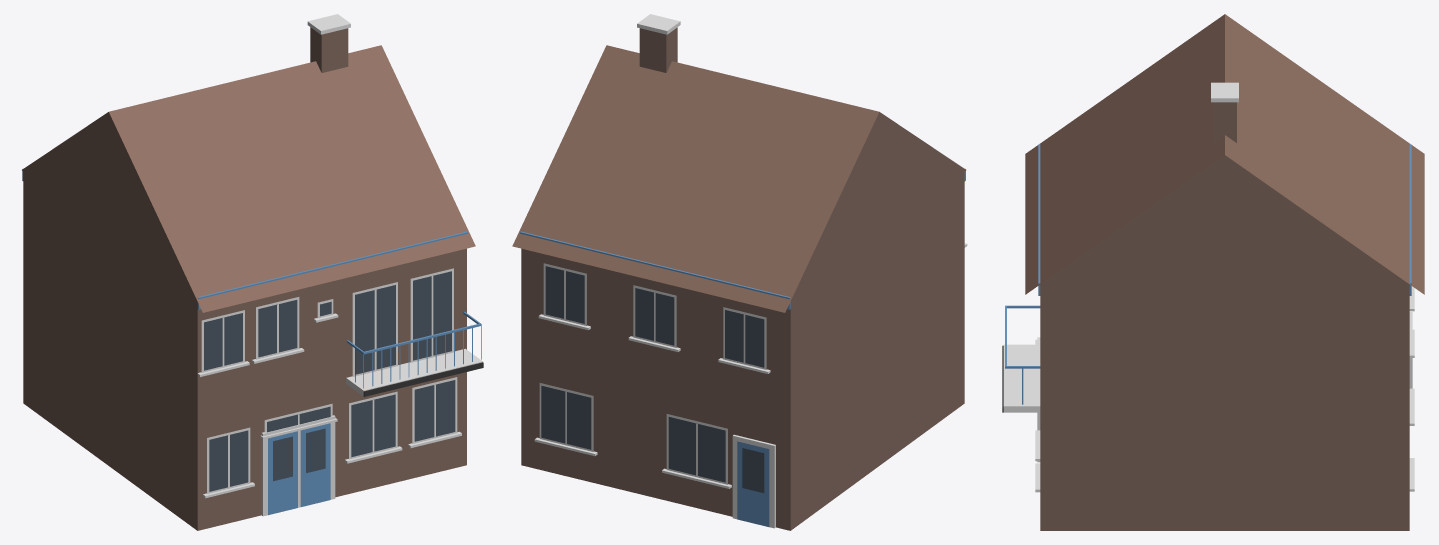
File: oo-ta-side__blue__2__gable__long__solid__mirror.glb
The picture shows the model from 3 angles, left to right: view 1: azimuth 30°, elevation 25°; view 2: azimuth 150°, elevation 25°; view 3: azimuth 270°, elevation 25°; orthographic projection. The views are drawn at different scales.
Visible parts, largest first — view 1: oo-ta-side__blue__2__gable__long__solid__mirror; view 2: oo-ta-side__blue__2__gable__long__solid__mirror; view 3: oo-ta-side__blue__2__gable__long__solid__mirror.
Boxes of the visible parts, x1,y1,x2,y2 form: oo-ta-side__blue__2__gable__long__solid__mirror: (22,14,483,530); oo-ta-side__blue__2__gable__long__solid__mirror: (512,14,967,530); oo-ta-side__blue__2__gable__long__solid__mirror: (1002,14,1424,530).
Bounding box in the file's own units: 7.68 × 10.52 × 9.72.
